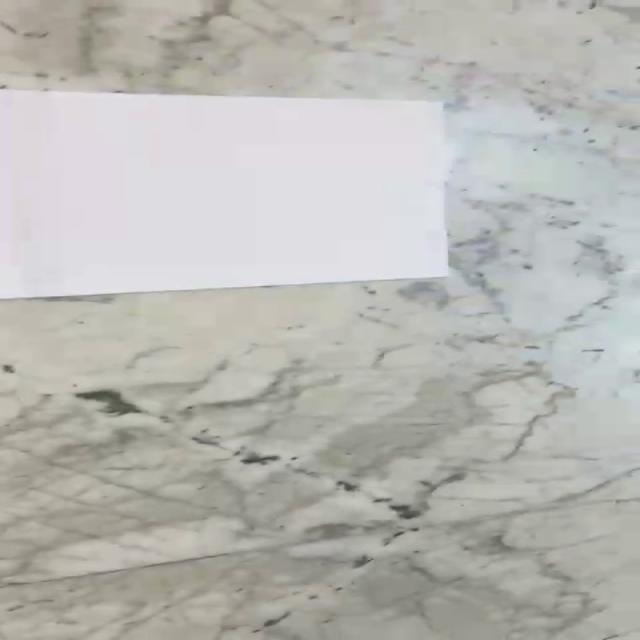road: (0, 89, 449, 301)
